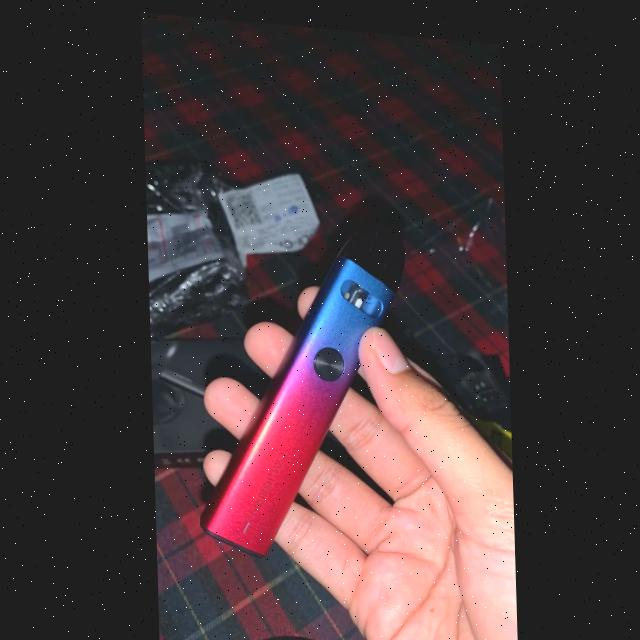vape: (189, 181, 411, 558)
